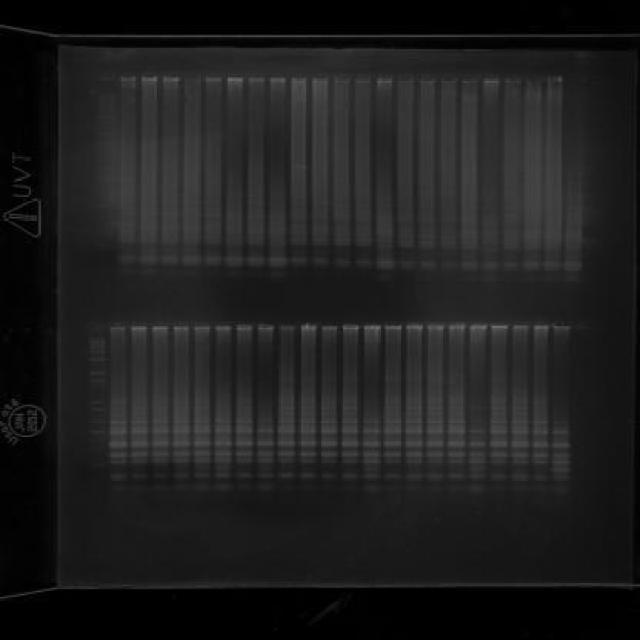B: (138, 267, 160, 278), (276, 482, 296, 493), (374, 272, 394, 283), (550, 486, 570, 496), (318, 438, 338, 448), (339, 482, 359, 492), (403, 482, 423, 492), (150, 482, 168, 493), (562, 273, 584, 282), (268, 271, 290, 280), (213, 482, 232, 492), (172, 482, 190, 492), (360, 483, 380, 492), (468, 483, 488, 492), (170, 440, 192, 448), (550, 459, 572, 467), (509, 473, 531, 481), (275, 450, 297, 458), (403, 440, 425, 448), (159, 254, 181, 262), (374, 258, 396, 266), (396, 260, 418, 268), (108, 483, 127, 492), (118, 268, 137, 277), (181, 254, 202, 262), (128, 484, 148, 492), (150, 440, 170, 448), (171, 472, 191, 480), (171, 450, 191, 458), (192, 450, 212, 458), (192, 484, 212, 492), (212, 472, 232, 480), (213, 457, 233, 465), (213, 440, 233, 448), (488, 458, 508, 466), (488, 472, 508, 480), (467, 440, 487, 448), (468, 472, 488, 480), (276, 440, 296, 448), (361, 472, 381, 480), (361, 458, 381, 466), (361, 440, 381, 448), (382, 450, 402, 458), (340, 440, 360, 448), (404, 457, 424, 465), (404, 472, 424, 480), (426, 472, 446, 480), (424, 440, 444, 448), (446, 450, 466, 458), (446, 440, 466, 448), (117, 253, 137, 261), (542, 259, 562, 267), (290, 257, 310, 265), (418, 260, 438, 268), (480, 274, 500, 282), (509, 440, 528, 448), (193, 440, 212, 448), (192, 458, 211, 466), (234, 450, 253, 458), (235, 440, 254, 448), (256, 439, 275, 447), (256, 483, 275, 491), (383, 440, 402, 448), (224, 270, 243, 278), (312, 258, 331, 266), (150, 472, 168, 480), (152, 458, 170, 466), (172, 457, 190, 465), (552, 474, 570, 482), (552, 467, 570, 475), (532, 459, 550, 467), (192, 472, 210, 480), (214, 450, 232, 458), (490, 440, 508, 448), (234, 483, 252, 491), (362, 450, 380, 458), (382, 458, 400, 466), (298, 439, 316, 447), (224, 240, 242, 248), (268, 240, 286, 248), (440, 260, 458, 268), (108, 441, 128, 448), (129, 441, 149, 448), (150, 451, 170, 458), (551, 442, 571, 449), (510, 452, 530, 459), (467, 451, 487, 458), (276, 472, 296, 479), (318, 472, 338, 479), (318, 451, 338, 458), (223, 262, 246, 268), (234, 472, 253, 479), (256, 472, 275, 479), (383, 472, 402, 479), (298, 472, 317, 479), (224, 255, 243, 262), (224, 248, 243, 255), (245, 255, 264, 262), (128, 452, 150, 458), (550, 453, 572, 459), (138, 260, 160, 266), (138, 228, 160, 234), (562, 260, 584, 266), (266, 256, 288, 262), (266, 262, 288, 268), (332, 257, 354, 263), (436, 234, 458, 240), (458, 261, 480, 267), (180, 198, 202, 204), (332, 263, 354, 269), (448, 472, 464, 480), (532, 441, 550, 448), (340, 472, 358, 479), (181, 261, 202, 267), (150, 428, 170, 434), (530, 453, 550, 459), (510, 424, 530, 430), (510, 430, 530, 436), (212, 466, 232, 472), (489, 452, 509, 458), (468, 418, 488, 424), (467, 458, 487, 464), (276, 428, 296, 434), (340, 458, 360, 464), (340, 428, 360, 434), (318, 458, 338, 464), (318, 424, 338, 430), (298, 418, 318, 424), (404, 424, 424, 430), (404, 418, 424, 424), (404, 452, 424, 458), (426, 458, 446, 464), (426, 424, 446, 430), (446, 428, 466, 434), (446, 418, 466, 424), (118, 238, 138, 244), (117, 228, 137, 234), (138, 254, 158, 260), (139, 238, 159, 244), (160, 260, 180, 266), (182, 234, 202, 240), (564, 266, 584, 272), (542, 244, 562, 250), (246, 240, 266, 246), (246, 262, 266, 268), (310, 231, 330, 237), (310, 236, 330, 242), (289, 231, 309, 237), (438, 244, 458, 250), (417, 238, 437, 244), (416, 244, 436, 250), (376, 266, 396, 272), (502, 236, 522, 242), (522, 236, 542, 242), (396, 234, 416, 240), (374, 238, 394, 244), (374, 228, 394, 234), (480, 262, 500, 268), (500, 262, 520, 268), (480, 247, 500, 253), (458, 240, 478, 246), (246, 208, 266, 214), (332, 208, 352, 214), (353, 214, 373, 220), (310, 208, 330, 214), (310, 224, 330, 230), (310, 200, 330, 206), (117, 198, 137, 204), (109, 430, 128, 436), (109, 452, 128, 458), (109, 458, 128, 464), (509, 460, 528, 466), (193, 424, 212, 430), (192, 418, 211, 424), (468, 466, 487, 472), (234, 458, 253, 464), (234, 424, 253, 430), (234, 418, 253, 424), (256, 458, 275, 464), (256, 451, 275, 457), (256, 428, 275, 434), (276, 458, 295, 464), (276, 424, 295, 430), (383, 428, 402, 434), (383, 424, 402, 430), (383, 418, 402, 424), (319, 428, 338, 434), (319, 410, 338, 416), (383, 410, 402, 416), (298, 451, 317, 457), (298, 424, 317, 430), (118, 260, 137, 266), (543, 240, 562, 246), (203, 254, 222, 260), (203, 261, 222, 267), (203, 240, 222, 246), (224, 224, 243, 230), (246, 230, 265, 236), (203, 198, 222, 204), (160, 239, 182, 244), (160, 230, 182, 235), (130, 474, 148, 480), (130, 458, 148, 464), (172, 428, 190, 434), (172, 418, 190, 424), (172, 424, 190, 430), (532, 430, 550, 436), (214, 418, 232, 424), (362, 466, 380, 472), (362, 428, 380, 434), (362, 418, 380, 424), (340, 452, 358, 458), (340, 404, 358, 410), (340, 410, 358, 416), (320, 418, 338, 424), (298, 458, 316, 464), (426, 452, 444, 458), (426, 418, 444, 424), (446, 458, 464, 464), (564, 244, 582, 250), (224, 234, 242, 240), (290, 236, 308, 242), (290, 242, 308, 248), (418, 234, 436, 240), (522, 261, 540, 267), (522, 266, 540, 272), (502, 240, 520, 246), (397, 238, 415, 244), (397, 243, 415, 249), (376, 244, 394, 250), (355, 237, 373, 243), (355, 258, 373, 264), (460, 266, 478, 272), (482, 267, 500, 273), (460, 246, 478, 252), (417, 216, 435, 222), (355, 264, 373, 270), (110, 474, 127, 480), (109, 400, 126, 406), (109, 406, 126, 412), (257, 418, 274, 424), (277, 418, 294, 424), (551, 430, 571, 435), (510, 406, 530, 411), (510, 419, 530, 424), (488, 430, 508, 435), (488, 419, 508, 424), (340, 419, 360, 424), (446, 425, 466, 430), (138, 233, 158, 238), (182, 239, 202, 244), (182, 230, 202, 235), (563, 240, 583, 245), (332, 232, 352, 237), (438, 240, 458, 245), (522, 246, 542, 251), (268, 226, 288, 231), (288, 225, 308, 230), (354, 232, 374, 237), (480, 240, 500, 245), (480, 235, 500, 240), (533, 474, 549, 480), (406, 410, 422, 416), (158, 234, 182, 238), (109, 420, 128, 425), (129, 430, 148, 435), (193, 429, 212, 434), (468, 429, 487, 434), (234, 429, 253, 434), (383, 405, 402, 410), (383, 400, 402, 405), (298, 429, 317, 434), (203, 235, 222, 240), (224, 229, 243, 234), (246, 235, 265, 240), (333, 242, 352, 247), (130, 420, 148, 425), (130, 406, 148, 411), (130, 400, 148, 405), (552, 420, 570, 425), (532, 420, 550, 425), (532, 406, 550, 411), (214, 429, 232, 434), (490, 425, 508, 430), (470, 405, 488, 410), (382, 395, 400, 400), (406, 405, 424, 410), (405, 395, 423, 400), (405, 429, 423, 434), (426, 429, 444, 434), (426, 396, 444, 401), (447, 405, 465, 410), (447, 395, 465, 400), (204, 230, 222, 235), (268, 236, 286, 241), (564, 220, 582, 225), (564, 232, 582, 237), (376, 233, 394, 238), (356, 243, 374, 248), (460, 235, 478, 240), (354, 209, 372, 214), (460, 213, 478, 218), (118, 206, 136, 211), (354, 202, 372, 207), (502, 213, 520, 218), (115, 234, 137, 238), (193, 405, 210, 410), (426, 405, 443, 410), (426, 376, 443, 381), (503, 245, 520, 250), (152, 419, 168, 424), (172, 396, 188, 401), (532, 396, 548, 401), (340, 424, 360, 428), (510, 412, 530, 416), (310, 242, 330, 246), (248, 200, 264, 205), (394, 212, 414, 216), (310, 214, 330, 218), (162, 206, 178, 211), (542, 268, 562, 272), (333, 238, 352, 242), (523, 242, 542, 246), (565, 214, 584, 218), (268, 232, 286, 236), (502, 268, 520, 272), (417, 212, 435, 216), (290, 202, 308, 206), (276, 406, 296, 409), (509, 397, 528, 400), (319, 406, 338, 409), (298, 377, 317, 380), (130, 397, 148, 400), (490, 406, 508, 409), (490, 397, 508, 400), (340, 377, 358, 380), (298, 406, 316, 409), (320, 396, 337, 399), (299, 397, 316, 400), (320, 377, 337, 380), (152, 406, 168, 409), (172, 407, 188, 410), (278, 397, 294, 400), (384, 377, 400, 380), (342, 396, 358, 399), (406, 377, 422, 380), (109, 398, 126, 400)
L: (81, 314, 597, 336), (89, 66, 609, 86)
M: (94, 90, 117, 278), (85, 338, 108, 494)
P: (96, 174, 116, 180), (94, 190, 114, 196), (89, 406, 106, 412), (89, 462, 106, 468), (98, 166, 116, 171), (89, 430, 106, 435), (89, 378, 106, 382), (98, 204, 114, 208), (88, 420, 107, 423), (96, 115, 115, 118), (98, 106, 116, 109), (98, 141, 116, 144), (98, 102, 115, 105), (90, 400, 106, 403), (96, 132, 115, 134), (88, 346, 105, 348), (88, 350, 105, 352), (88, 358, 105, 360), (88, 344, 105, 346), (88, 342, 105, 344), (98, 100, 115, 102), (90, 372, 106, 374)
Pc: (296, 321, 318, 332), (254, 321, 276, 332), (118, 70, 138, 82), (96, 70, 116, 81), (162, 70, 180, 82), (319, 322, 339, 332), (524, 74, 544, 84), (310, 72, 330, 82), (267, 72, 287, 82), (404, 321, 426, 330), (382, 322, 404, 331), (340, 322, 362, 331), (275, 322, 297, 331), (290, 72, 308, 83), (183, 72, 202, 82), (204, 72, 223, 82), (247, 72, 266, 82), (546, 74, 565, 84), (150, 321, 170, 330), (171, 321, 191, 330), (426, 321, 446, 330), (362, 322, 382, 331), (482, 74, 500, 84), (460, 74, 480, 83), (438, 74, 458, 83), (417, 73, 437, 82), (396, 73, 416, 82), (332, 72, 350, 82), (193, 322, 212, 331), (235, 322, 254, 331), (227, 72, 244, 82), (214, 322, 232, 331), (108, 322, 128, 330), (128, 322, 148, 330), (566, 75, 586, 83), (502, 75, 522, 83), (374, 74, 394, 82), (468, 322, 490, 329), (446, 322, 468, 329), (86, 322, 105, 330), (140, 72, 158, 80), (354, 74, 372, 82), (572, 321, 592, 328), (552, 322, 572, 329), (510, 322, 530, 329), (587, 75, 604, 83), (532, 322, 550, 329), (490, 321, 508, 328)
